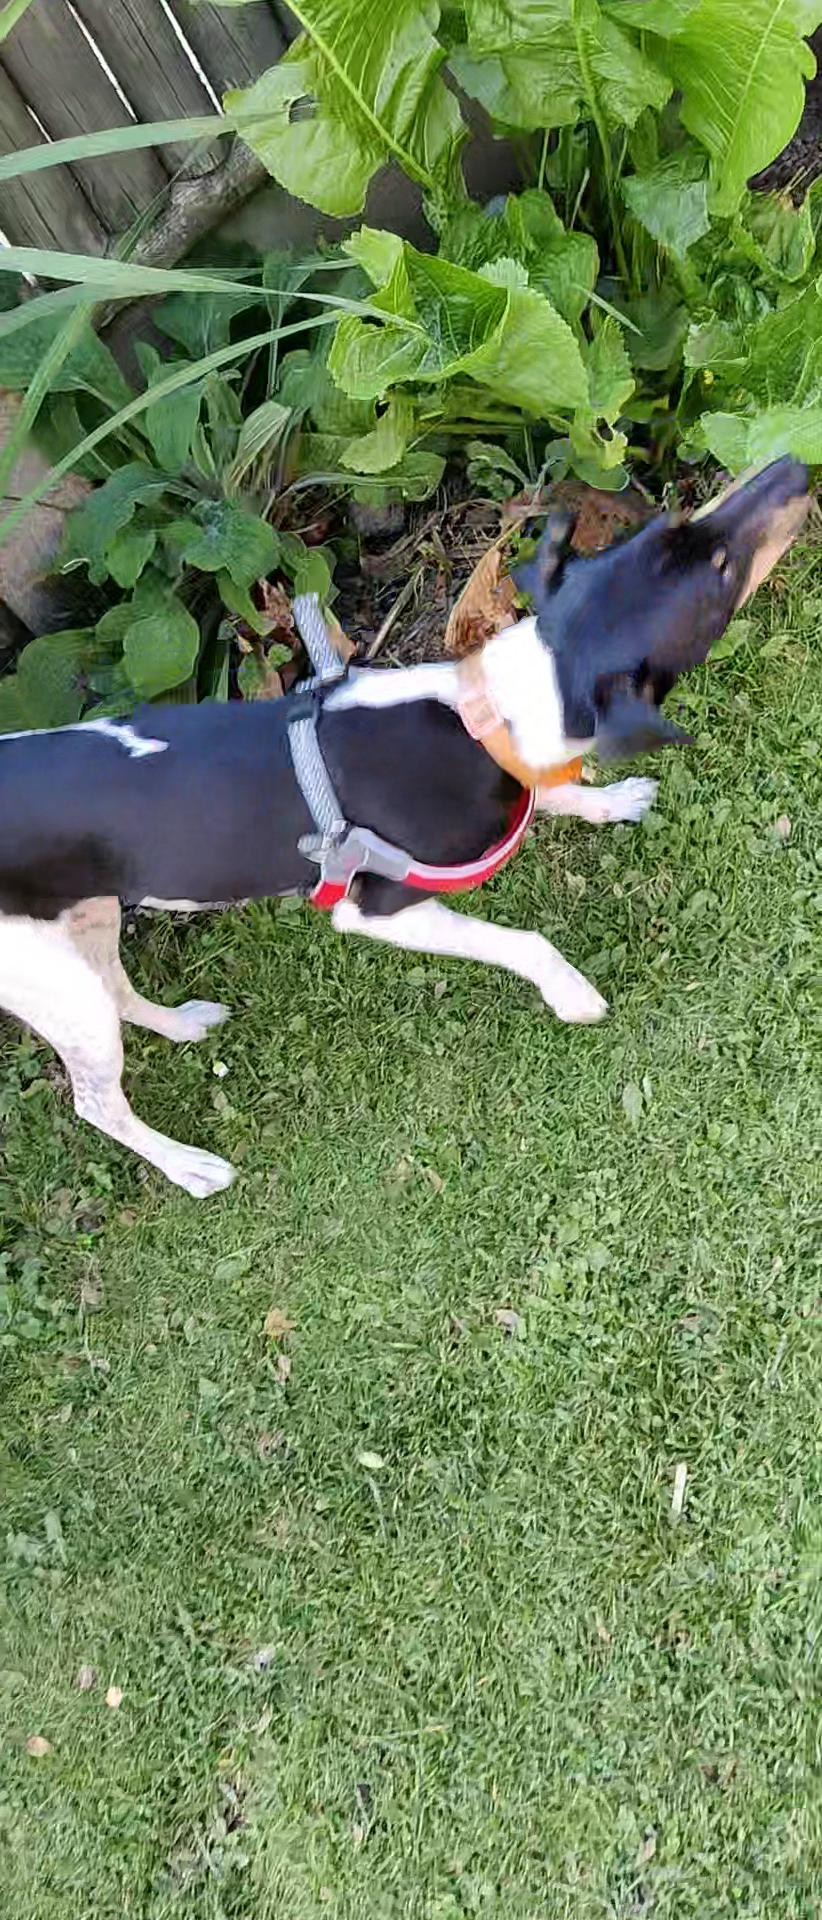Dog: (0, 444, 821, 1207)
